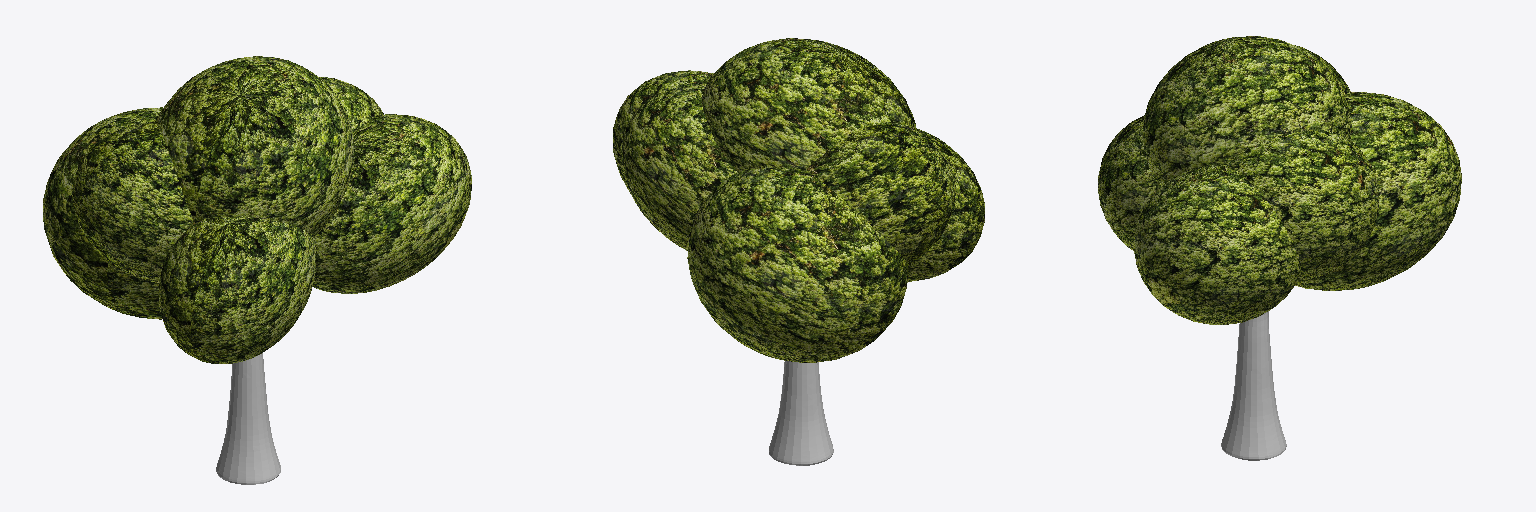
3 renders of one model, left to right at view 1: azimuth 30°, elevation 25°; view 2: azimuth 150°, elevation 25°; view 3: azimuth 270°, elevation 25°, orthographic.
Visible parts, largest first — view 1: Sphere.003, Sphere.002, Sphere.001, Sphere.005, Sphere, tronco_Mesh0, Sphere.004; view 2: Sphere, Sphere.003, Sphere.005, Sphere.004, tronco_Mesh0, Sphere.001, Sphere.002; view 3: Sphere.003, Sphere.002, Sphere, Sphere.004, tronco_Mesh0, Sphere.001.
Part boxes in pixels (x1,y1,x2,y2): Sphere.003: (155, 56, 353, 237); Sphere.002: (313, 114, 471, 293); Sphere.001: (158, 216, 315, 363); Sphere.005: (72, 121, 193, 282); Sphere: (43, 107, 162, 319); tronco_Mesh0: (216, 353, 280, 484); Sphere.004: (320, 77, 383, 132); Sphere: (687, 168, 908, 362); Sphere.003: (702, 38, 916, 172); Sphere.005: (806, 122, 955, 264); Sphere.004: (621, 85, 737, 250); tronco_Mesh0: (769, 361, 833, 465); Sphere.001: (908, 129, 984, 281); Sphere.002: (613, 70, 713, 188); Sphere.003: (1142, 36, 1351, 187); Sphere.002: (1134, 165, 1300, 324); Sphere: (1295, 92, 1461, 290); Sphere.004: (1227, 130, 1378, 280); tronco_Mesh0: (1221, 311, 1286, 460); Sphere.001: (1098, 115, 1159, 250).
Bounding box in the file's own units: 1.92 × 2.1 × 1.72.
Materials: 2 (2 with a texture image).